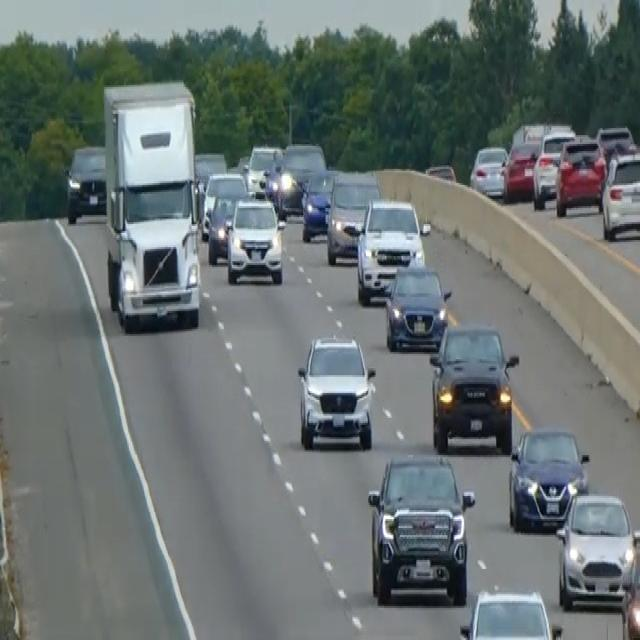car: (428, 320, 518, 453), (555, 489, 636, 610), (296, 330, 376, 450), (507, 423, 589, 532), (355, 196, 429, 304), (383, 260, 451, 352), (225, 192, 285, 284), (458, 585, 558, 638), (325, 169, 380, 265), (554, 133, 607, 217), (277, 141, 326, 215), (531, 126, 575, 208), (601, 148, 639, 240), (65, 142, 107, 224), (201, 169, 247, 238), (300, 165, 339, 242), (501, 137, 540, 201), (619, 526, 639, 638), (469, 142, 508, 198), (246, 142, 282, 196), (207, 192, 234, 263), (595, 122, 634, 162), (194, 149, 226, 194), (424, 162, 456, 181)
jeep: (366, 448, 475, 606)
lorry: (101, 76, 202, 332)
